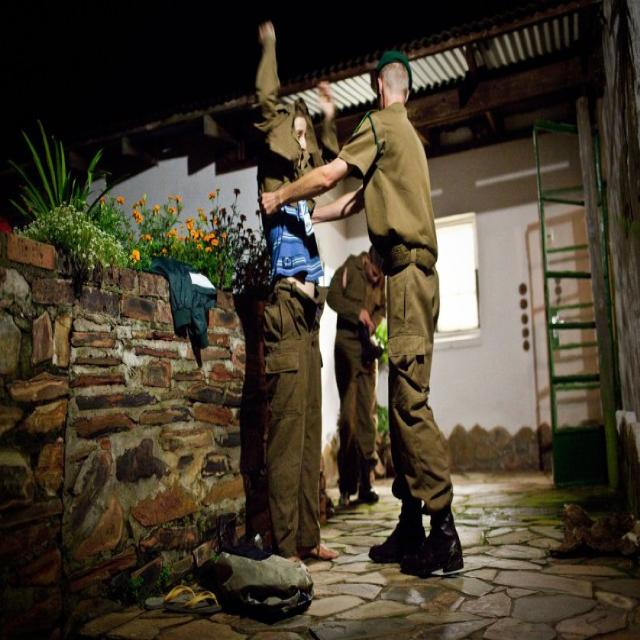body: (255, 44, 465, 580), (244, 18, 340, 574), (325, 244, 387, 509), (223, 263, 273, 559)
